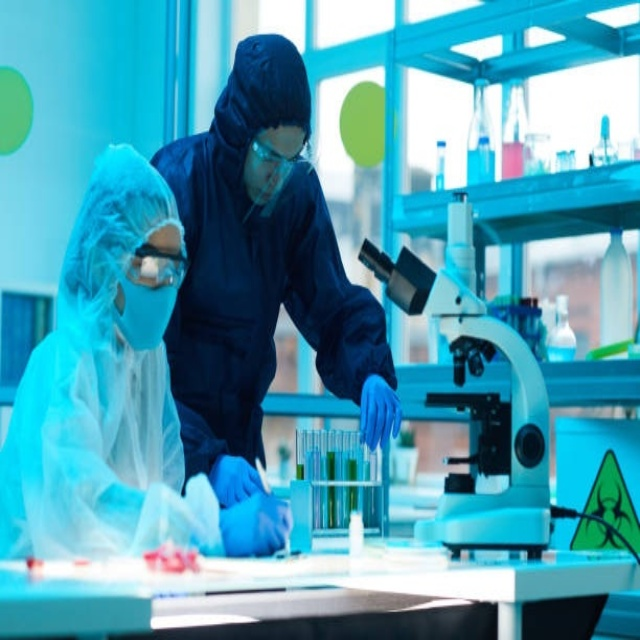Gafas: (132, 243, 192, 287), (251, 134, 308, 167)
Guantes: (216, 493, 294, 558), (359, 373, 402, 453), (210, 453, 267, 507)
Mascara: (110, 275, 184, 350)
